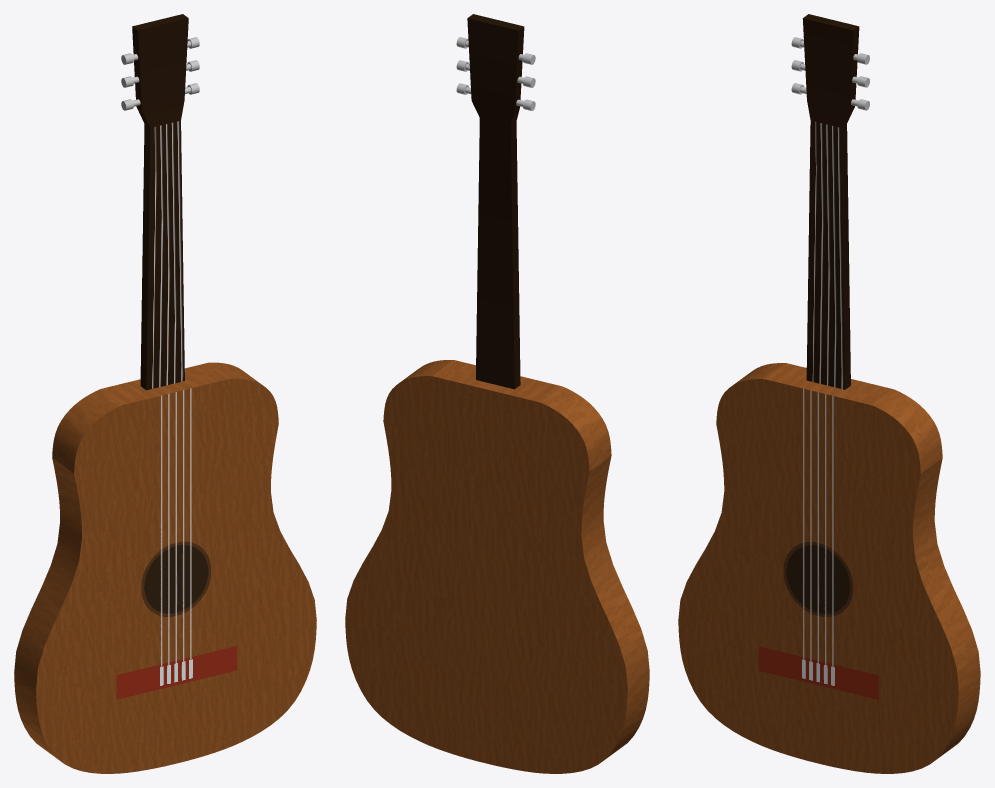
The model's file is Guitar.fbx.
The picture shows the model from 3 angles, left to right: view 1: azimuth 30°, elevation 25°; view 2: azimuth 150°, elevation 25°; view 3: azimuth 330°, elevation 25°; orthographic projection.
Visible parts, largest first — view 1: Guitar; view 2: Guitar; view 3: Guitar.
Boxes of the visible parts, x1=… form: Guitar: x1=14, y1=14, x2=316, y2=773; Guitar: x1=345, y1=14, x2=649, y2=773; Guitar: x1=678, y1=14, x2=980, y2=773.
Bounding box in the file's own units: 255 × 634 × 34.5.
